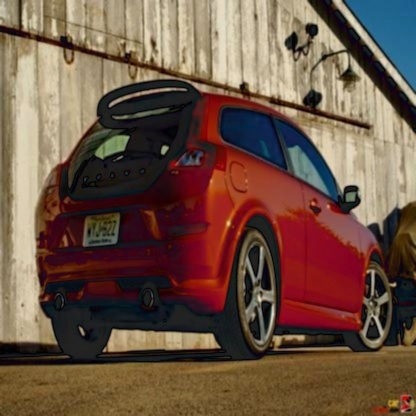Vehicle: (27, 75, 396, 367)
